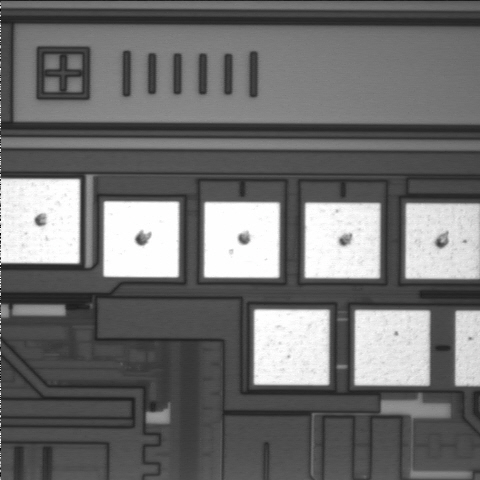pad: (103, 201, 179, 277), (204, 202, 280, 278), (304, 203, 380, 278), (254, 309, 329, 385), (355, 310, 430, 386)
